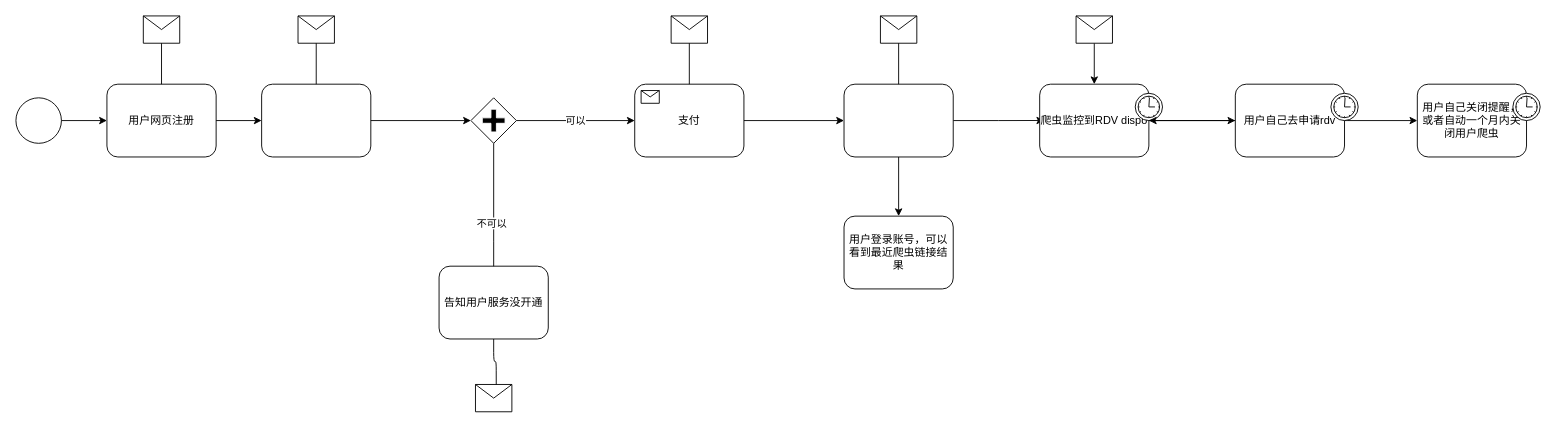
Image size: 1556x428. Some labels were removed from this diagram. Each missing label, with the centre of its shape:
"Google Forms填写" belongs at [316,120].
"人工确认RDV爬虫在Prod环境运行" belongs at [493,120].
"用户收到爬虫运行确认信息" belongs at [898,120].
